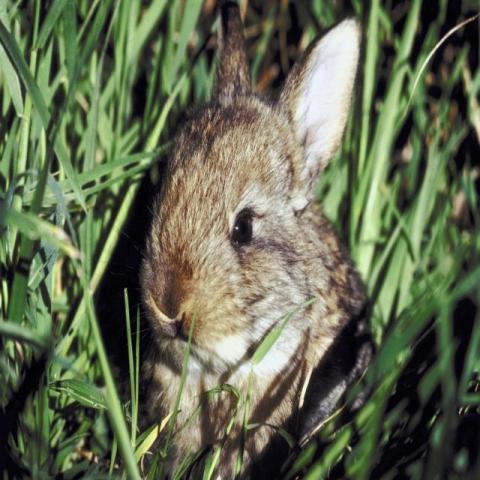small_animal: (132, 4, 376, 479)
